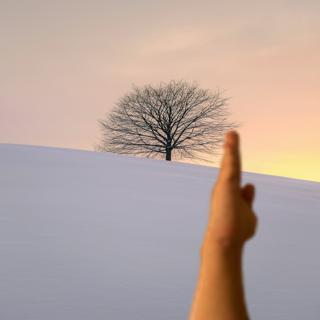RIGHT: (199, 126, 264, 246)
